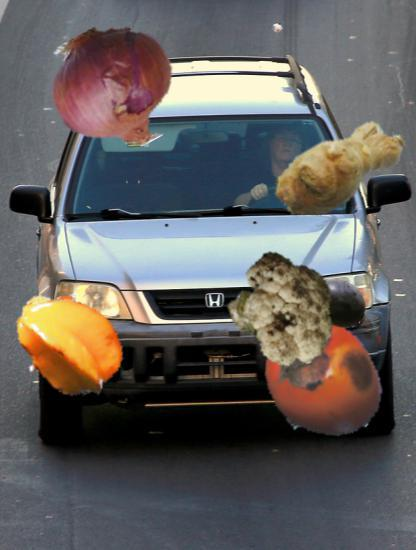Carambula: (8, 284, 128, 404)
Cauliflower: (221, 248, 343, 370)
Ginger: (269, 97, 412, 240)
Kaki: (253, 311, 388, 446)
Onion: (51, 24, 180, 153)
Plum: (305, 271, 367, 333)
Pomegranate: (36, 317, 104, 385)
